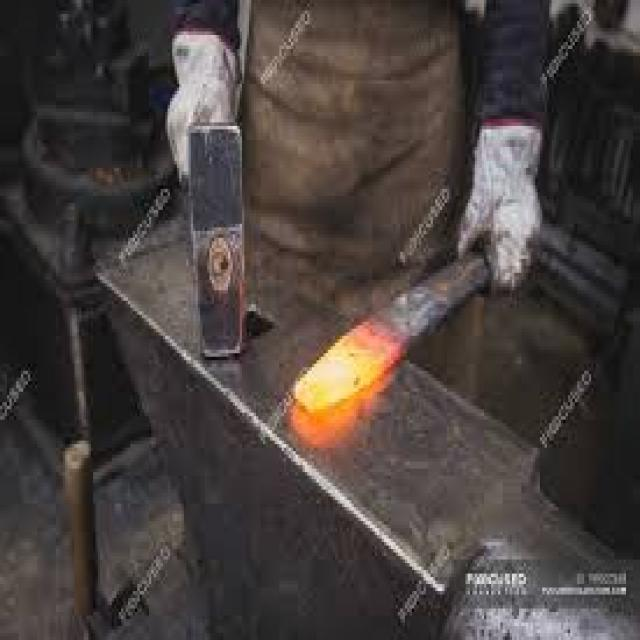hammer: (178, 114, 253, 372)
